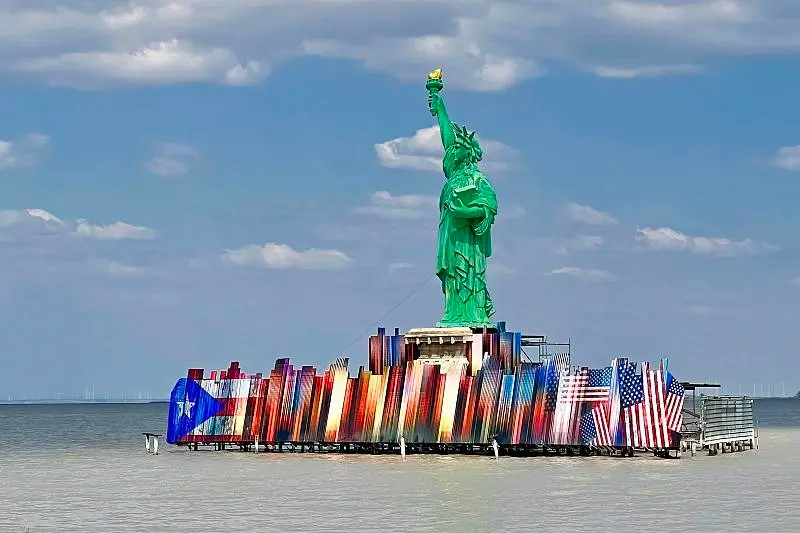SL: (403, 67, 498, 371)
